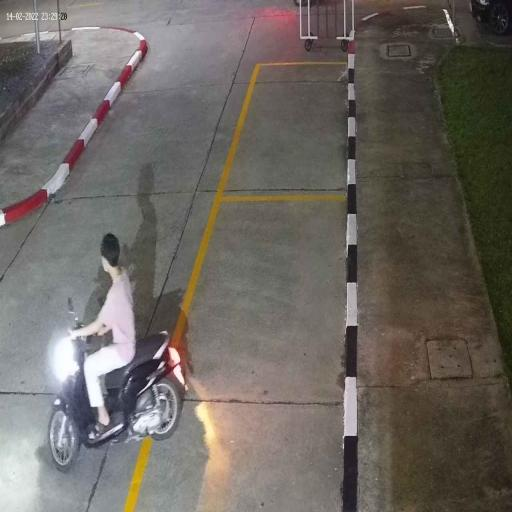motorcycle: (47, 323, 189, 475)
